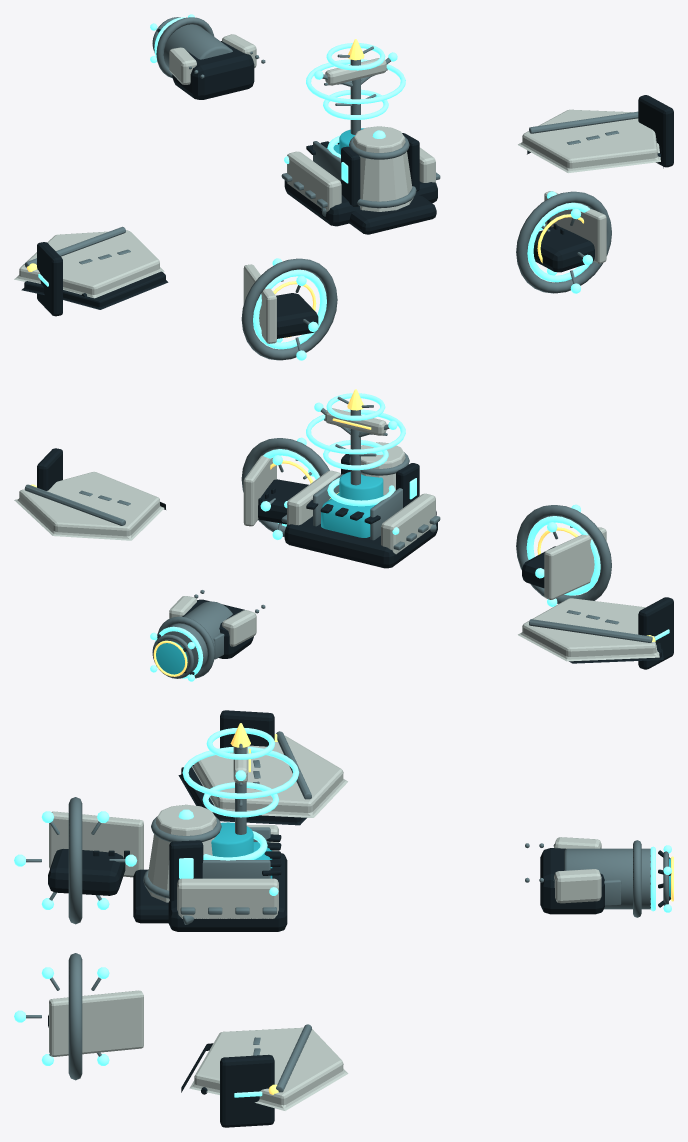
File: meridian-workshop-parts.glb
3 views of the same model, one above another, from view 1: azimuth 30°, elevation 25°; view 2: azimuth 150°, elevation 25°; view 3: azimuth 270°, elevation 25° (orthographic). The views are drawn at different scales.
Parts seen in each view (by area): view 1: vector-stabilizers__Ceramic, aegis-projector__Metal, vector-stabilizers__Carbon, sand-hopper__Ceramic, aegis-projector__Carbon, sand-hopper__Carbon, aegis-projector__Accent, aegis-projector__Ceramic, pulse-collimator__Carbon, pulse-collimator__Metal, signal-mast__Accent, flux-capacitor__Ceramic (+7 smaller); view 2: vector-stabilizers__Ceramic, aegis-projector__Metal, aegis-projector__Ceramic, flux-capacitor__Carbon, pulse-collimator__Metal, flux-capacitor__Ceramic, vector-stabilizers__Carbon, signal-mast__Accent, flux-capacitor__Glass, aegis-projector__Accent, vector-stabilizers__Metal, aegis-projector__Carbon (+10 smaller); view 3: vector-stabilizers__Ceramic, aegis-projector__Ceramic, vector-stabilizers__Carbon, pulse-collimator__Metal, aegis-projector__Metal, flux-capacitor__Ceramic, signal-mast__Accent, flux-capacitor__Carbon, sand-hopper__Ceramic, aegis-projector__Carbon, sand-hopper__Carbon, pulse-collimator__Carbon (+6 smaller).
Part boxes in pixels (<box>): vector-stabilizers__Ceramic: <box>14,109,660,298</box>; aegis-projector__Metal: <box>241,191,611,360</box>; vector-stabilizers__Carbon: <box>21,95,673,316</box>; sand-hopper__Ceramic: <box>353,126,413,211</box>; aegis-projector__Carbon: <box>276,219,594,338</box>; sand-hopper__Carbon: <box>341,133,436,234</box>; aegis-projector__Accent: <box>253,191,592,360</box>; aegis-projector__Ceramic: <box>243,191,606,343</box>; pulse-collimator__Carbon: <box>157,29,254,99</box>; pulse-collimator__Metal: <box>152,17,265,78</box>; signal-mast__Accent: <box>306,43,405,119</box>; flux-capacitor__Ceramic: <box>287,147,435,211</box>; vector-stabilizers__Ceramic: <box>14,471,659,661</box>; aegis-projector__Metal: <box>241,438,611,603</box>; aegis-projector__Ceramic: <box>243,449,606,599</box>; flux-capacitor__Carbon: <box>284,500,437,568</box>; pulse-collimator__Metal: <box>152,590,265,678</box>; flux-capacitor__Ceramic: <box>287,470,435,554</box>; vector-stabilizers__Carbon: <box>37,448,673,669</box>; signal-mast__Accent: <box>306,393,405,470</box>; flux-capacitor__Glass: <box>321,472,383,537</box>; aegis-projector__Accent: <box>260,437,600,606</box>; vector-stabilizers__Metal: <box>24,484,652,642</box>; aegis-projector__Carbon: <box>258,479,555,588</box>; vector-stabilizers__Ceramic: <box>189,735,348,1110</box>; aegis-projector__Ceramic: <box>49,811,143,1056</box>; vector-stabilizers__Carbon: <box>178,710,306,1127</box>; pulse-collimator__Metal: <box>525,840,668,917</box>; aegis-projector__Metal: <box>26,797,125,1080</box>; flux-capacitor__Ceramic: <box>177,825,278,918</box>; signal-mast__Accent: <box>182,728,299,817</box>; flux-capacitor__Carbon: <box>168,834,287,931</box>; sand-hopper__Ceramic: <box>146,804,216,902</box>; aegis-projector__Carbon: <box>48,849,129,1027</box>; sand-hopper__Carbon: <box>133,840,203,923</box>; pulse-collimator__Carbon: <box>540,848,671,914</box>.
Size of the model in its own units: 10.82 by 3.75 by 8.23.
